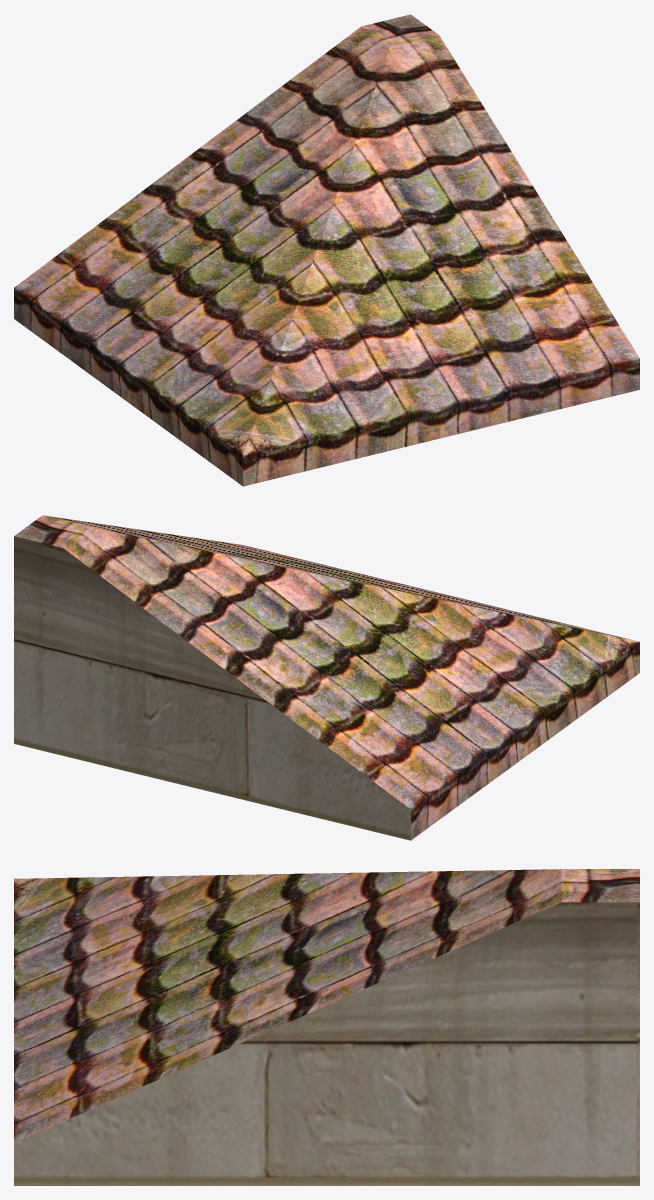
File: svspartaroof4.dae
3 renders of one model, top to bottom at view 1: azimuth 30°, elevation 25°; view 2: azimuth 150°, elevation 25°; view 3: azimuth 270°, elevation 25°, orthographic. The views are drawn at different scales.
Parts seen in each view (by area): view 1: cube12_sep28-0; view 2: cube12_sep28-0; view 3: cube12_sep28-0.
Part boxes in pixels (box(x1,y1,x2,y2)): cube12_sep28-0: box(14, 14, 639, 486); cube12_sep28-0: box(14, 515, 639, 840); cube12_sep28-0: box(14, 869, 639, 1185).
Bounding box in the file's own units: 200 × 100 × 200.
